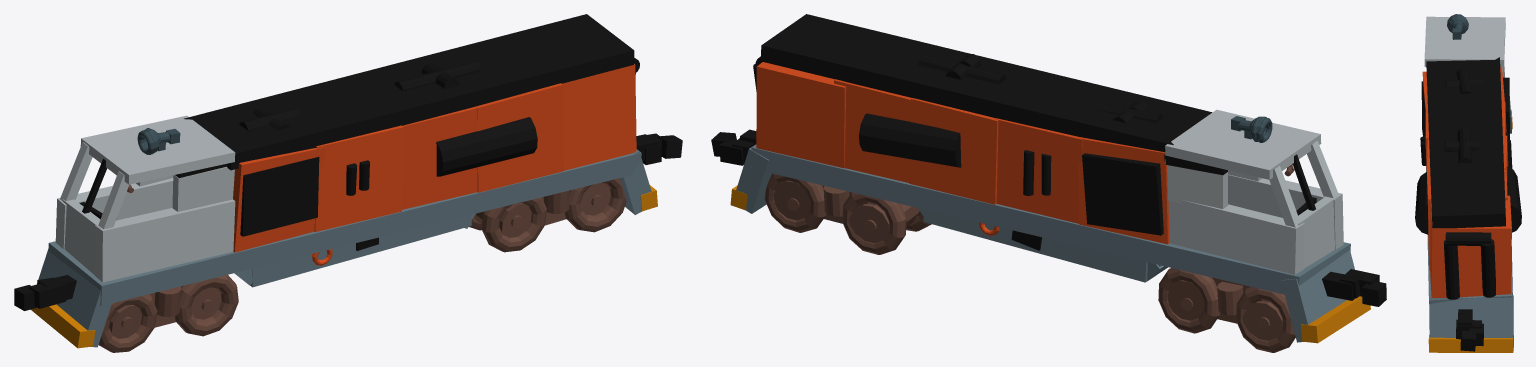
3 views of the same model, side by side, from view 1: azimuth 30°, elevation 25°; view 2: azimuth 150°, elevation 25°; view 3: azimuth 270°, elevation 25° (orthographic). The views are drawn at different scales.
Visible parts, largest first — view 1: node_MeshObject-1150365696-PolyPaper21; view 2: node_MeshObject-1150365696-PolyPaper21; view 3: node_MeshObject-1150365696-PolyPaper21.
Boxes of the visible parts, x1=… form: node_MeshObject-1150365696-PolyPaper21: x1=14, y1=14, x2=682, y2=352; node_MeshObject-1150365696-PolyPaper21: x1=711, y1=14, x2=1386, y2=352; node_MeshObject-1150365696-PolyPaper21: x1=1415, y1=14, x2=1521, y2=352.
Bounding box in the file's own units: 4.37 × 1.33 × 0.7662.
